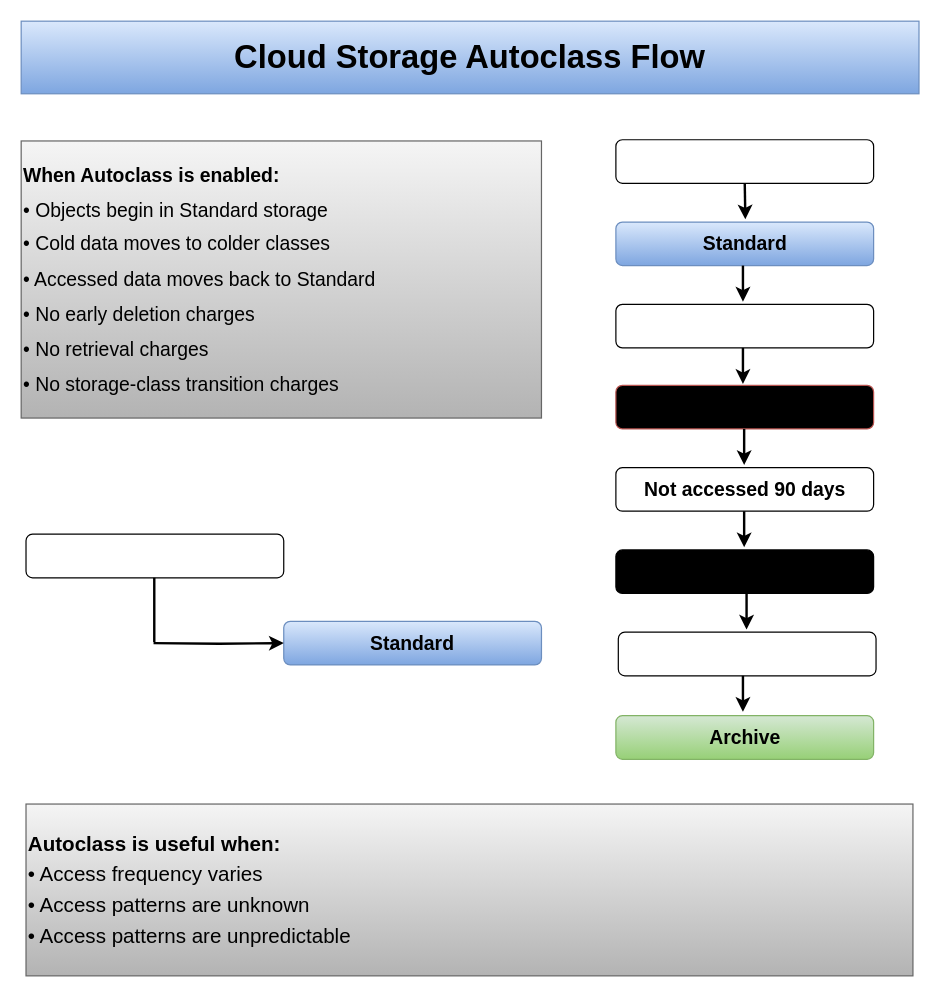
Image size: 940x997. Some labels were removed from this diagram. The shapes that lost their labels are listed below. From the top down, each one's box as (x1, y1, x2, y2) in pixels, then its label:
(615, 139, 874, 183): New Object
(615, 303, 874, 348): Not accessed 30 days
(25, 533, 284, 578): Any object read
(617, 631, 876, 676): Not accessed 365 days
